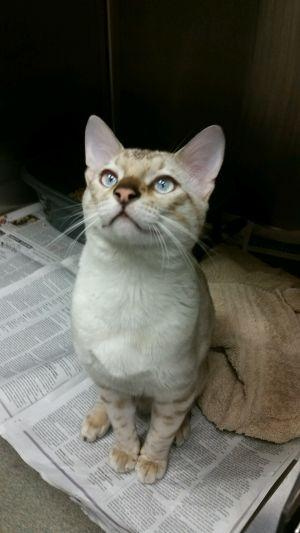bengal: (75, 107, 231, 248)
